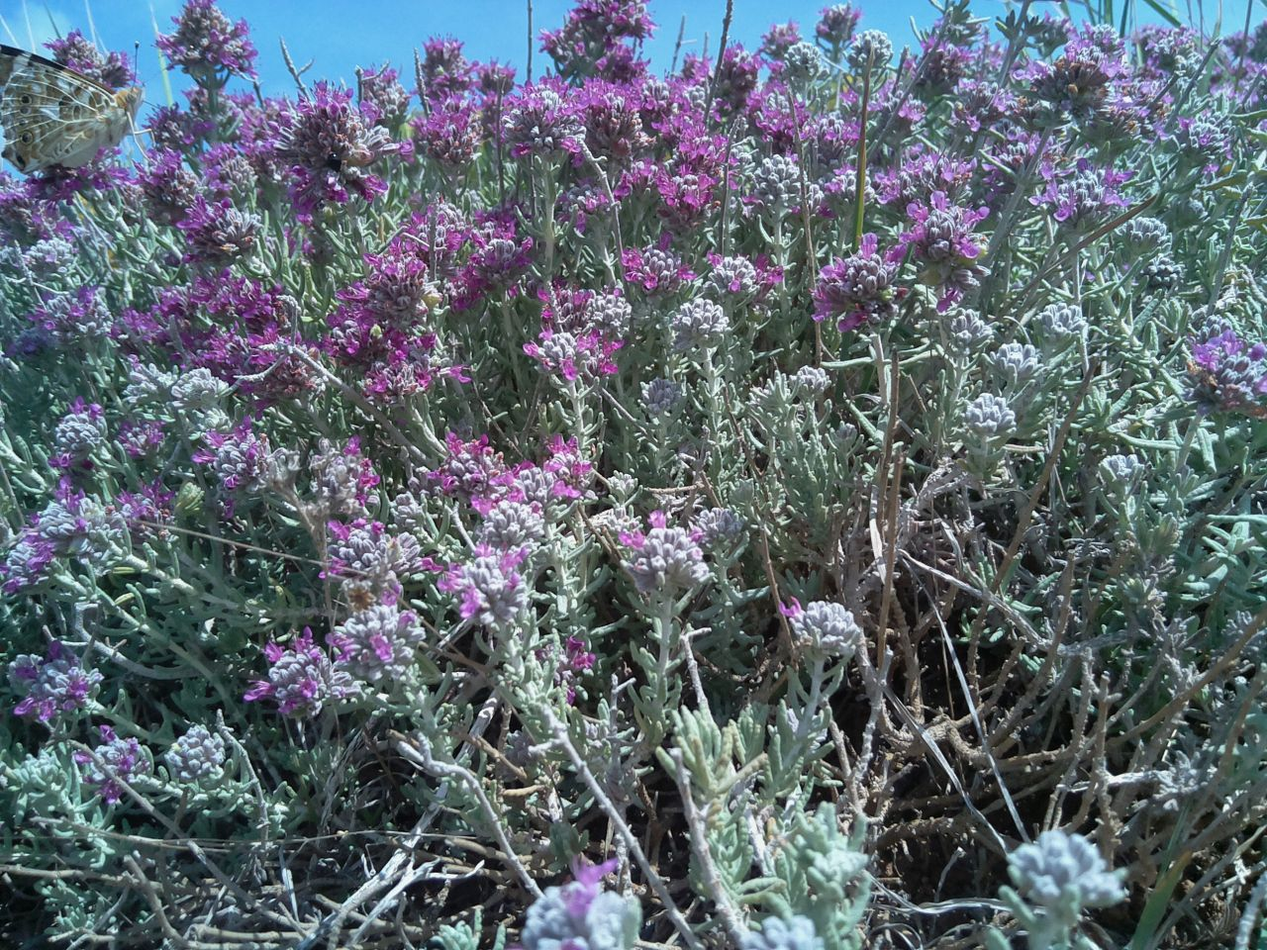Butterfly: (3, 25, 183, 202)
